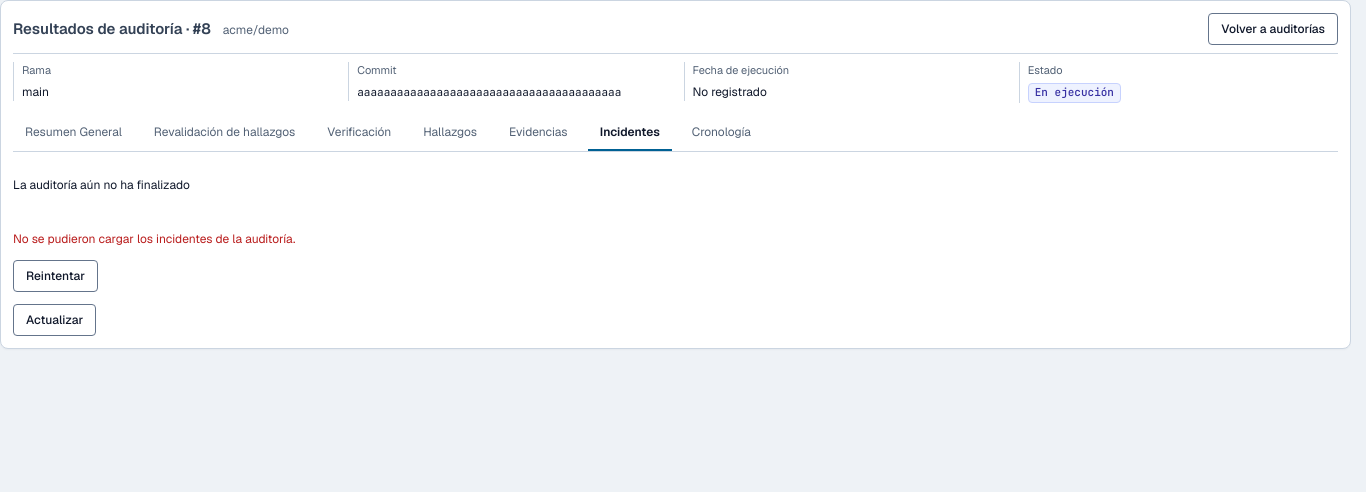
Scenario: offers retry after a safe loading error and works for unfinished audits without a report
expect the message "No se pudieron cargar los incidentes de la auditoría. Reintentar" is shown: met, box [13,230,295,292]
Click the button "Reintentar". click: x=56, y=276
box: [13,260,98,292]
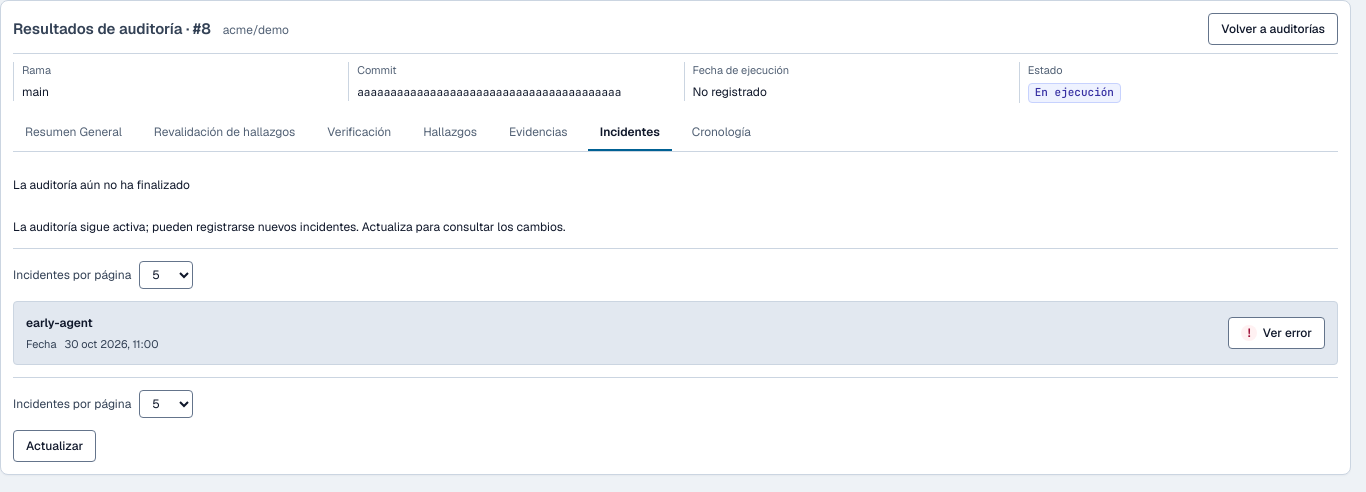
expect the text "La auditoría sigue activa" is shown: met, box [13,218,565,234]
expect the element showing "early-agent Fecha 30 oct 2026, 11:00 ! Ver error" is shown: met, box [13,300,1338,365]
